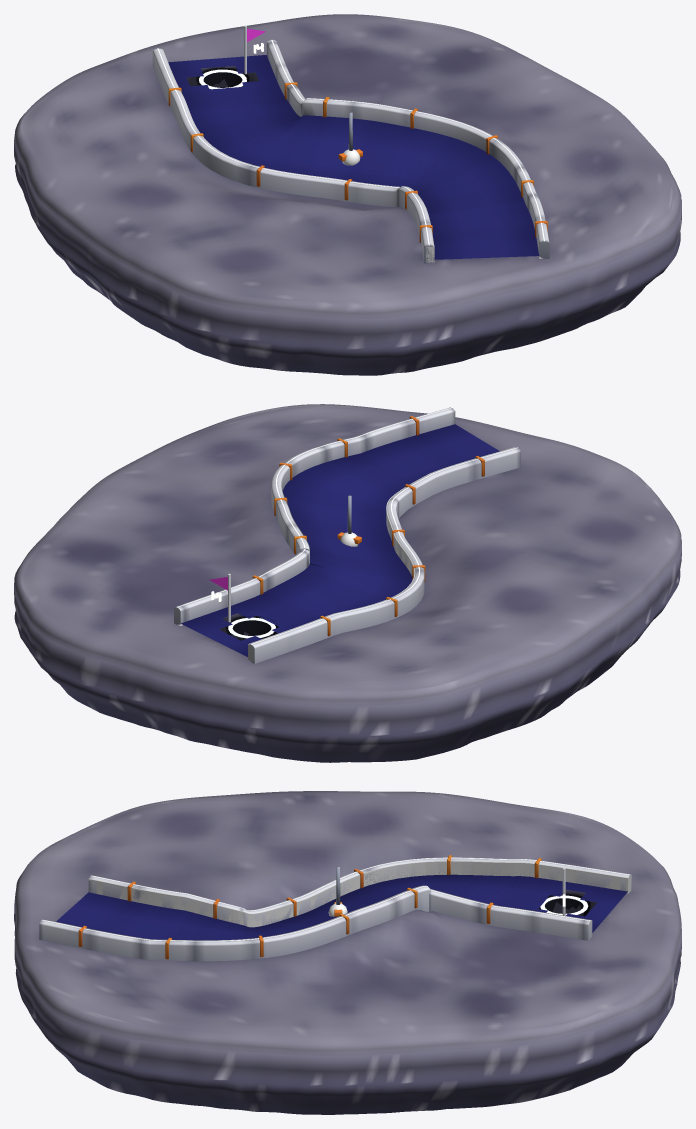
Rendered from course-14.glb.
3 renders of one model, top to bottom at view 1: azimuth 30°, elevation 25°; view 2: azimuth 150°, elevation 25°; view 3: azimuth 270°, elevation 25°, orthographic.
Parts seen in each view (by area): view 1: scenery-matte, surface-grass, rail-trim-left, rail-trim-right, rail-left; view 2: scenery-matte, surface-grass, rail-trim-left, rail-trim-right, rail-left; view 3: scenery-matte, surface-grass, rail-trim-right, rail-left, rail-trim-left, rail-right.
Part boxes in pixels (bbox=[...]): scenery-matte: bbox=[14, 14, 681, 375]; surface-grass: bbox=[168, 55, 539, 259]; rail-trim-left: bbox=[152, 48, 434, 263]; rail-trim-right: bbox=[266, 40, 549, 258]; rail-left: bbox=[162, 49, 434, 262]; scenery-matte: bbox=[14, 404, 681, 762]; surface-grass: bbox=[181, 424, 499, 656]; rail-trim-left: bbox=[248, 447, 520, 663]; rail-trim-right: bbox=[174, 407, 455, 624]; rail-left: bbox=[248, 447, 515, 662]; scenery-matte: bbox=[14, 791, 681, 1114]; surface-grass: bbox=[56, 874, 627, 940]; rail-trim-right: bbox=[39, 885, 592, 961]; rail-left: bbox=[88, 861, 630, 927]; rail-trim-left: bbox=[88, 855, 631, 926]; rail-right: bbox=[44, 885, 592, 940].
Bounding box in the file's own units: 9.95 × 4.06 × 10.93.
